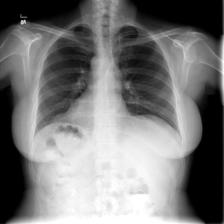normal: (27, 18, 186, 157)
